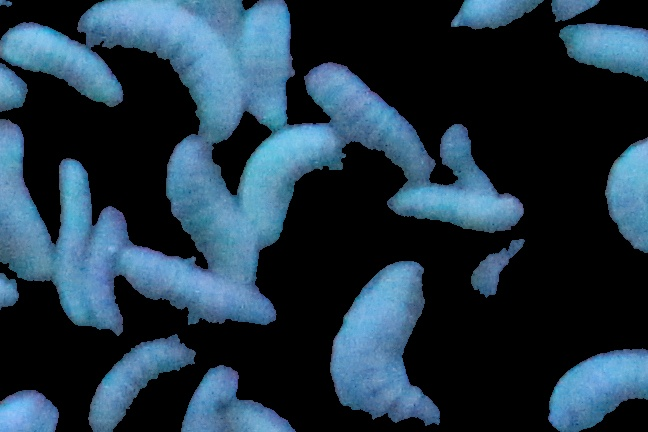larvae: (78, 1, 244, 139), (330, 260, 442, 429), (305, 63, 433, 174), (165, 132, 257, 281), (122, 246, 277, 330), (239, 124, 337, 238), (85, 337, 197, 432), (1, 24, 120, 106), (546, 342, 648, 432), (1, 120, 57, 281), (47, 159, 94, 328), (385, 180, 525, 233), (239, 1, 291, 128), (603, 130, 648, 256), (88, 204, 131, 334), (561, 19, 648, 82), (438, 121, 496, 193), (183, 362, 236, 432), (447, 1, 543, 31), (229, 392, 298, 432)
